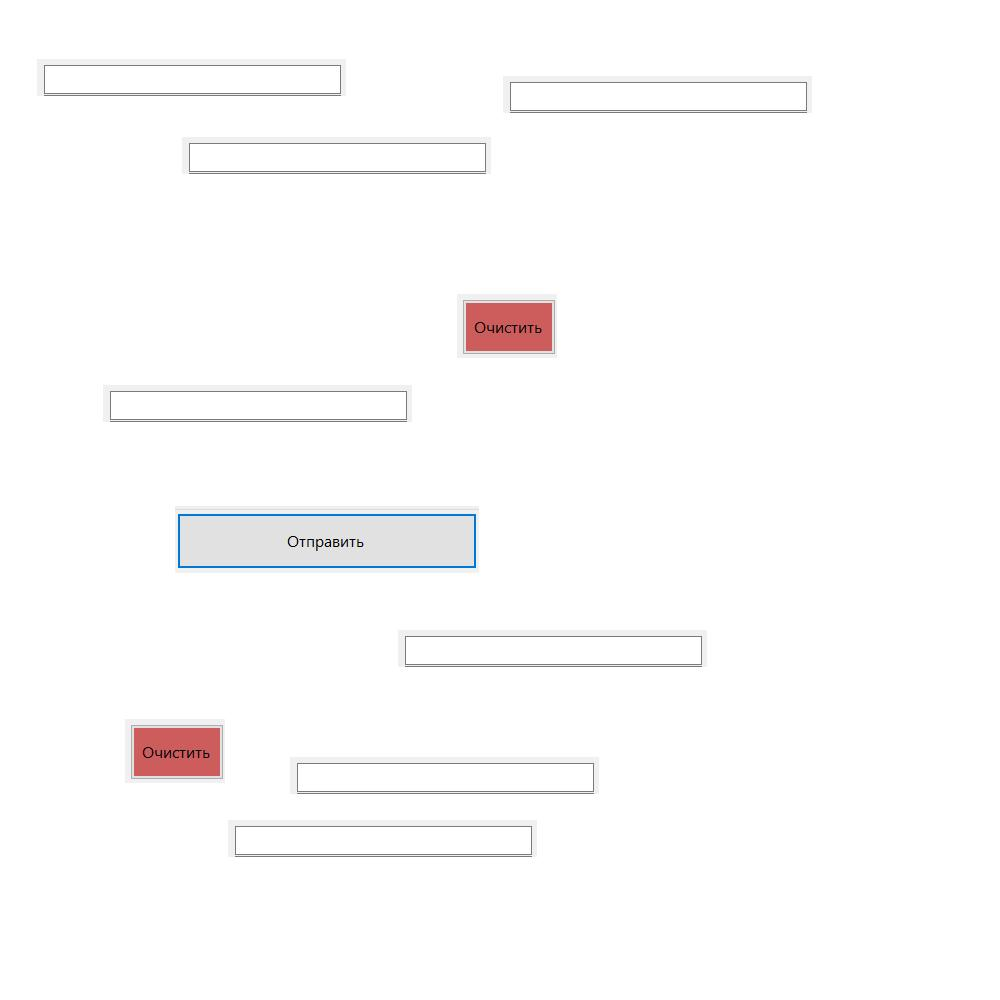Button: (175, 506, 479, 573), (125, 719, 225, 783), (457, 294, 557, 358)
EditText-: (228, 820, 537, 857), (503, 76, 812, 113), (37, 59, 346, 96), (182, 137, 491, 174), (398, 630, 707, 667), (103, 385, 412, 422), (290, 757, 599, 794)
